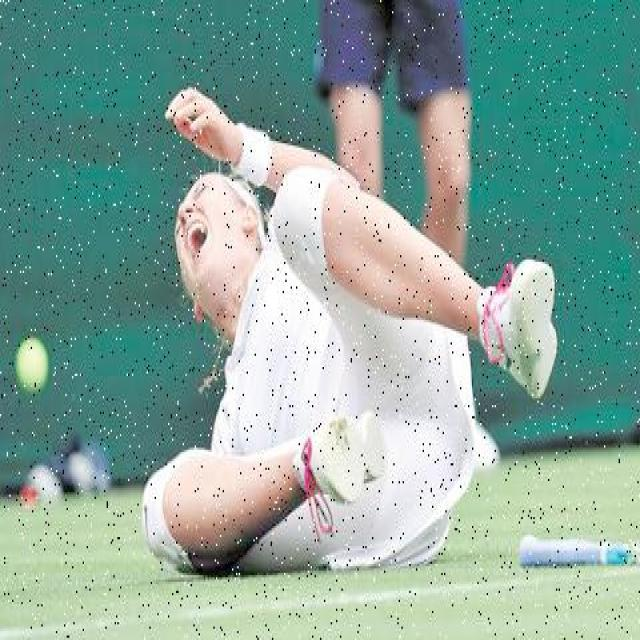fall: (130, 90, 546, 568)
